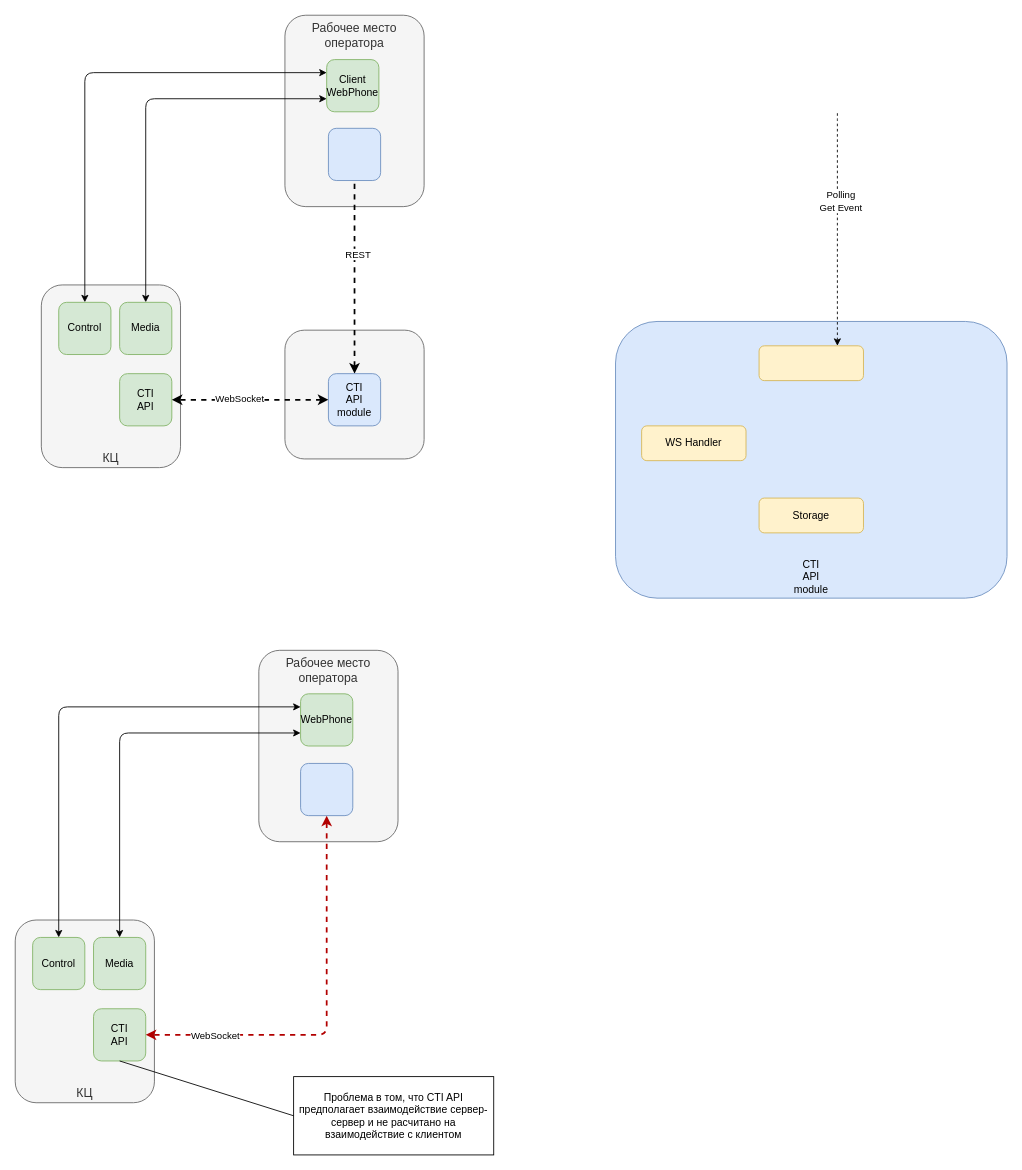
This 1022x1170 diagram has some shape labels left out. The box of each missing label's shape, as (x1, y1, x2, y2) in pixels:
Client module: (328, 127, 381, 181)
CTI панель: (300, 763, 353, 816)
MiddleWare: (284, 329, 424, 459)
REST Handler: (758, 345, 863, 381)
